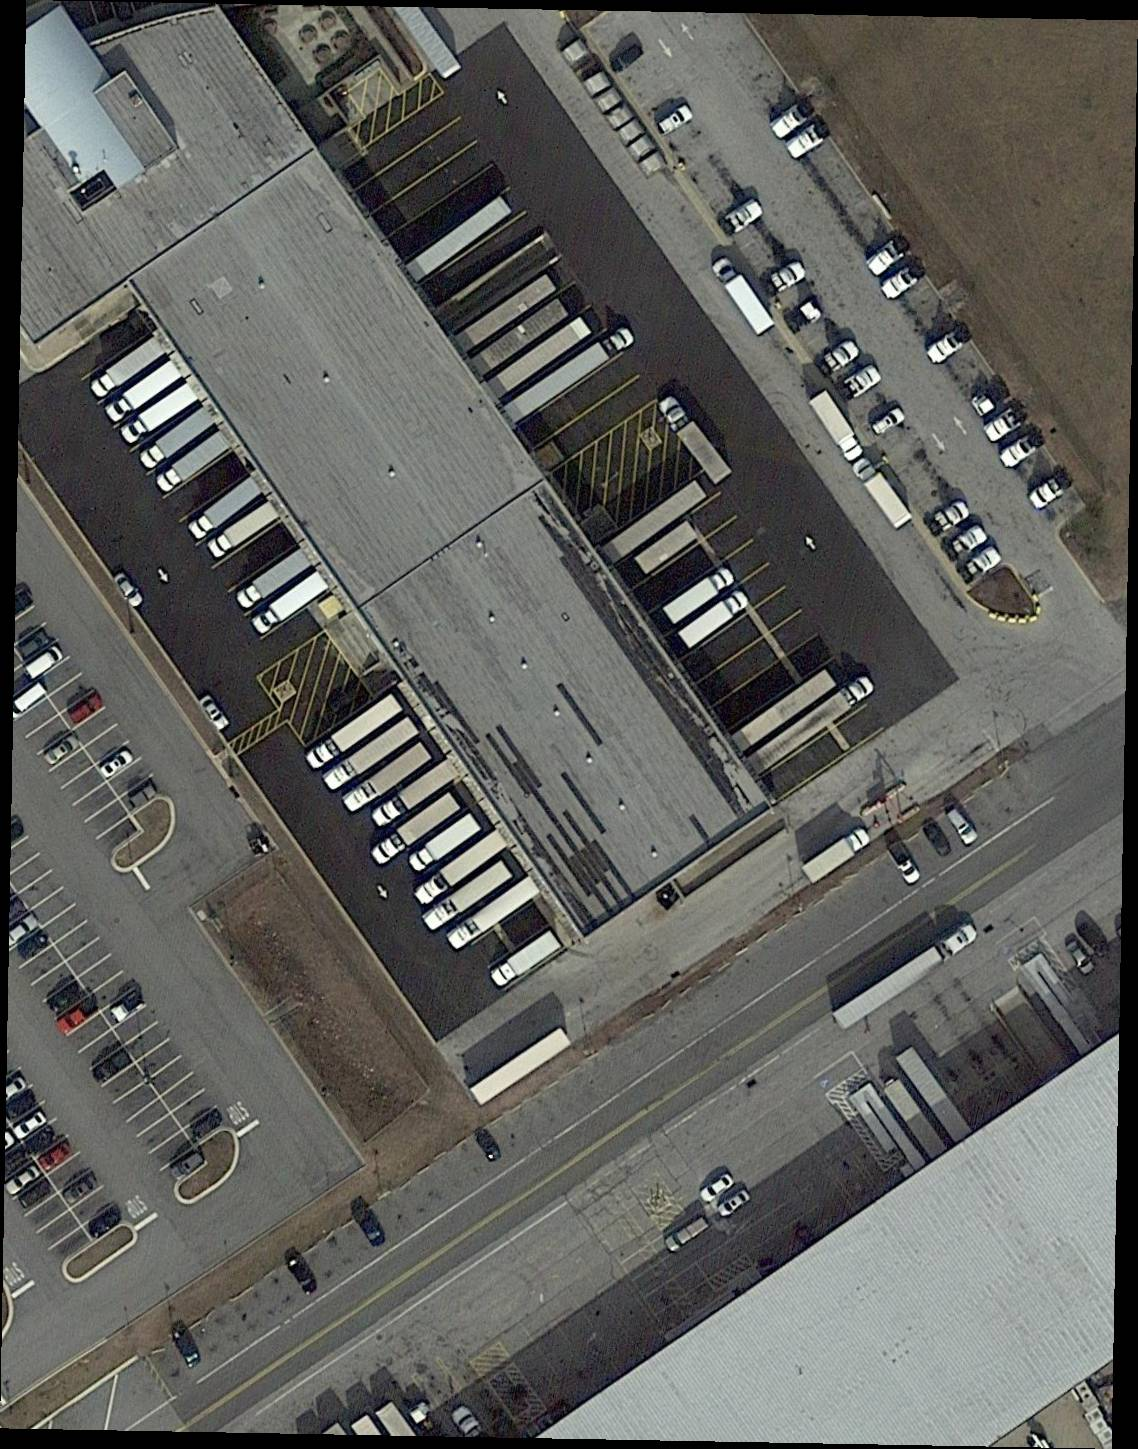large vehicle: (831, 921, 984, 1031), (502, 323, 637, 425), (745, 674, 879, 775), (321, 712, 421, 795), (414, 826, 509, 912), (304, 693, 404, 772), (448, 874, 547, 951), (369, 793, 462, 868), (341, 741, 434, 815), (368, 759, 461, 832), (660, 394, 734, 485), (423, 861, 514, 931), (707, 254, 779, 338), (252, 570, 334, 637), (88, 332, 168, 399), (234, 547, 316, 610), (105, 359, 185, 422), (491, 928, 570, 991), (139, 406, 214, 472), (120, 383, 199, 445), (190, 474, 266, 537), (207, 499, 284, 560), (676, 590, 754, 650), (852, 456, 915, 530), (411, 813, 486, 875), (158, 429, 232, 492), (806, 388, 866, 465), (661, 566, 734, 625), (803, 827, 873, 883)
small vehicle: (660, 1213, 716, 1255), (348, 1201, 391, 1251), (940, 803, 983, 852), (1072, 914, 1114, 960), (103, 984, 150, 1026), (282, 1253, 323, 1298), (884, 839, 923, 887), (60, 689, 106, 729), (865, 401, 909, 442), (21, 642, 66, 682), (55, 994, 100, 1034), (652, 101, 697, 140), (91, 1047, 135, 1086), (13, 1175, 56, 1214), (169, 1323, 205, 1370), (39, 732, 82, 769), (696, 1169, 739, 1207), (469, 1126, 507, 1169), (81, 1202, 125, 1240), (60, 1168, 103, 1206), (46, 979, 88, 1016), (118, 777, 161, 814), (921, 815, 956, 860), (11, 1104, 52, 1142), (712, 1186, 756, 1221), (111, 569, 147, 610), (96, 744, 138, 781), (1062, 937, 1098, 977), (4, 1161, 43, 1197), (186, 1106, 227, 1141), (166, 1147, 205, 1183), (13, 929, 53, 964), (198, 692, 232, 733), (35, 1137, 75, 1171), (4, 1088, 39, 1122), (14, 626, 51, 659), (24, 1126, 59, 1156)
